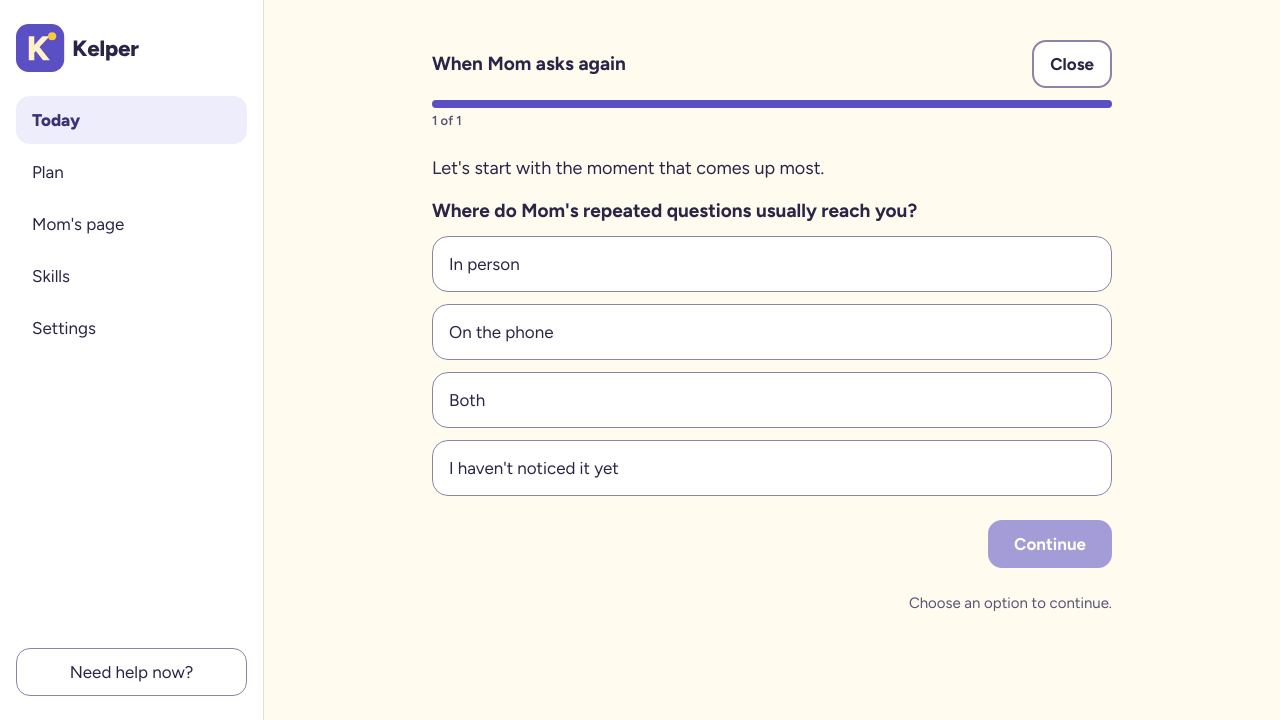
Test: lesson player › starts with the setup screen alone and re-fetches after the answer, staying on screen 1
Check: the text "Choose an option to continue." is shown, box [909,594,1112,612]
Check: the heading "When Mom asks again" is shown, box [432,51,626,77]
Click the radio button labelled "Both" at (467, 400), box [432,372,1112,428]
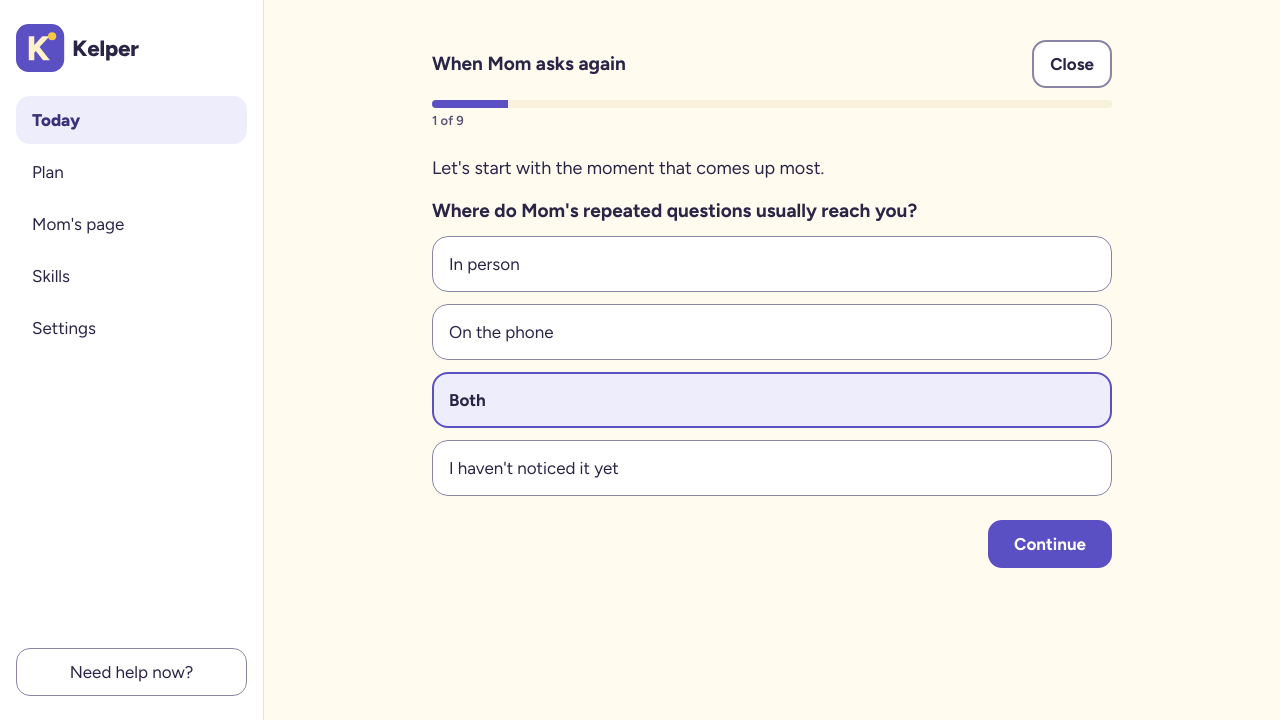
Check: the progress indicator named "Lesson progress" has attribute aria-valuemax="9", box [432,100,1112,108]
Check: the progress indicator named "Lesson progress" has attribute aria-valuetext="Screen 1 of 9", box [432,100,1112,108]
Check: the radio button labelled "Both" is checked, box [432,372,1112,428]
Click the button "Continue" at (1050, 544), box [988,520,1112,568]
(page scrolled)
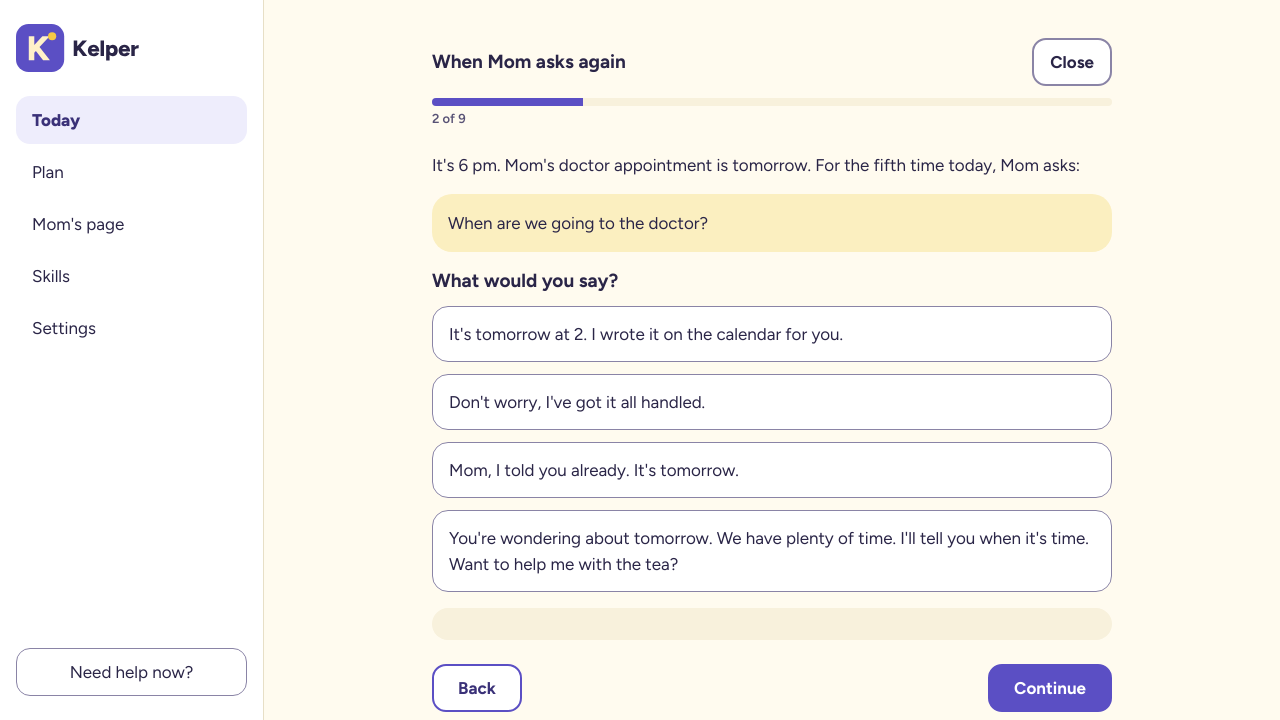
Check: the text "It's 6 pm" is shown, box [432,155,1080,175]
